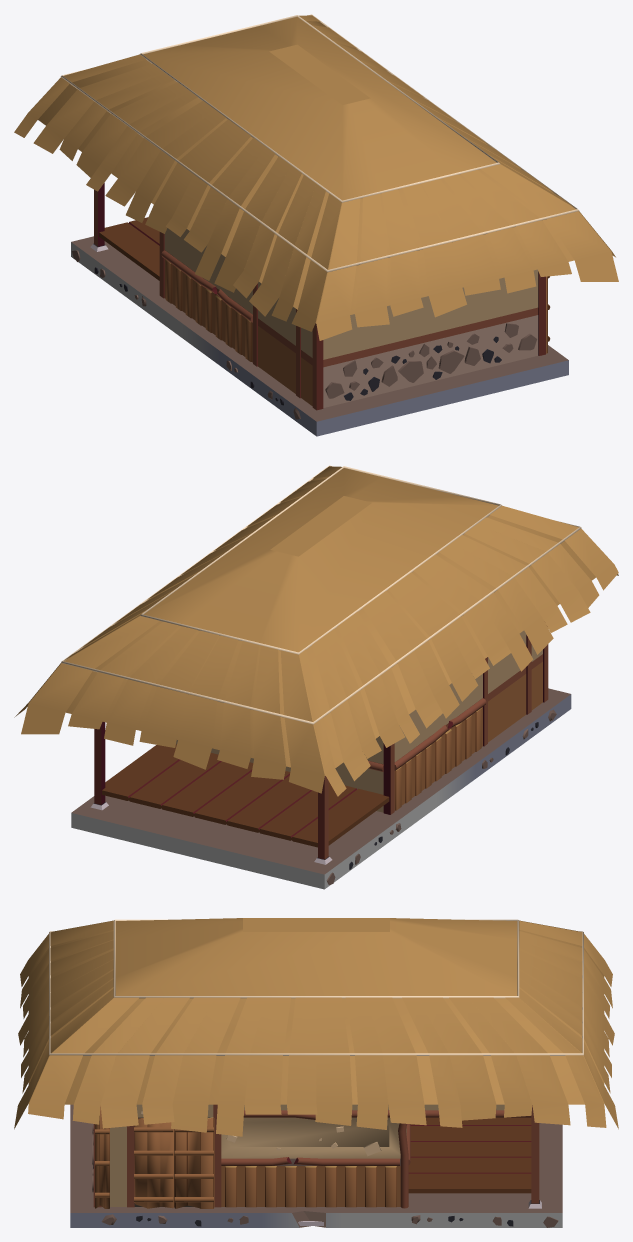
The model's file is korea_house01_02.fbx.
3 renders of one model, top to bottom at view 1: azimuth 30°, elevation 25°; view 2: azimuth 150°, elevation 25°; view 3: azimuth 270°, elevation 25°, orthographic.
Visible parts, largest first — view 1: korea_house01; view 2: korea_house01; view 3: korea_house01.
Boxes of the visible parts, left/top/right/bottom form: korea_house01: left=14, top=14, right=618, bottom=436; korea_house01: left=14, top=465, right=618, bottom=889; korea_house01: left=14, top=918, right=618, bottom=1227.
Size of the model in its own units: 5718 by 4057 by 9220.
